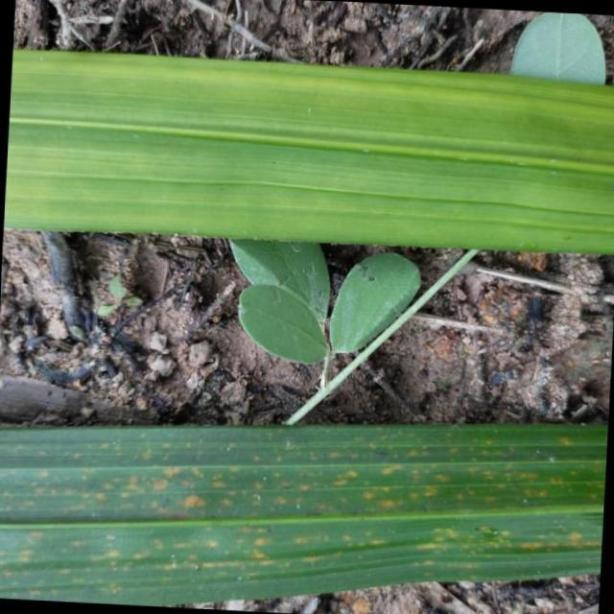nitrogen: (0, 44, 614, 252)
